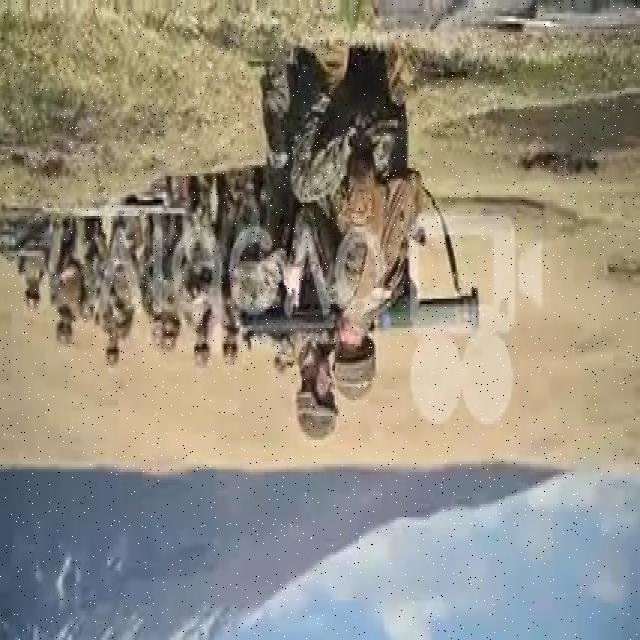bazooka: (244, 281, 484, 347)
